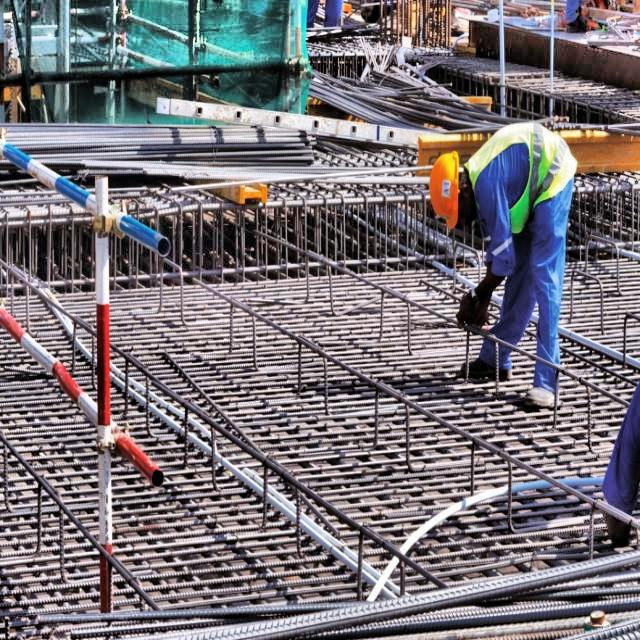person: (432, 123, 584, 412)
